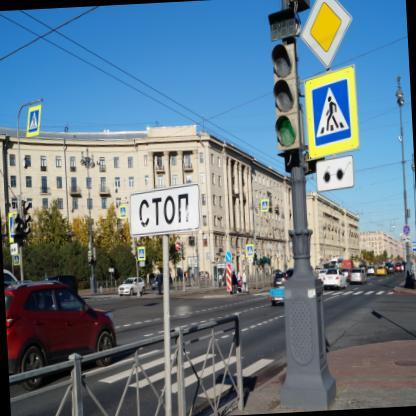road_sign: (305, 66, 357, 158), (300, 0, 352, 68), (130, 184, 198, 234), (317, 156, 354, 191), (26, 104, 41, 136), (226, 264, 232, 292)
traffic light: (272, 43, 299, 150)
